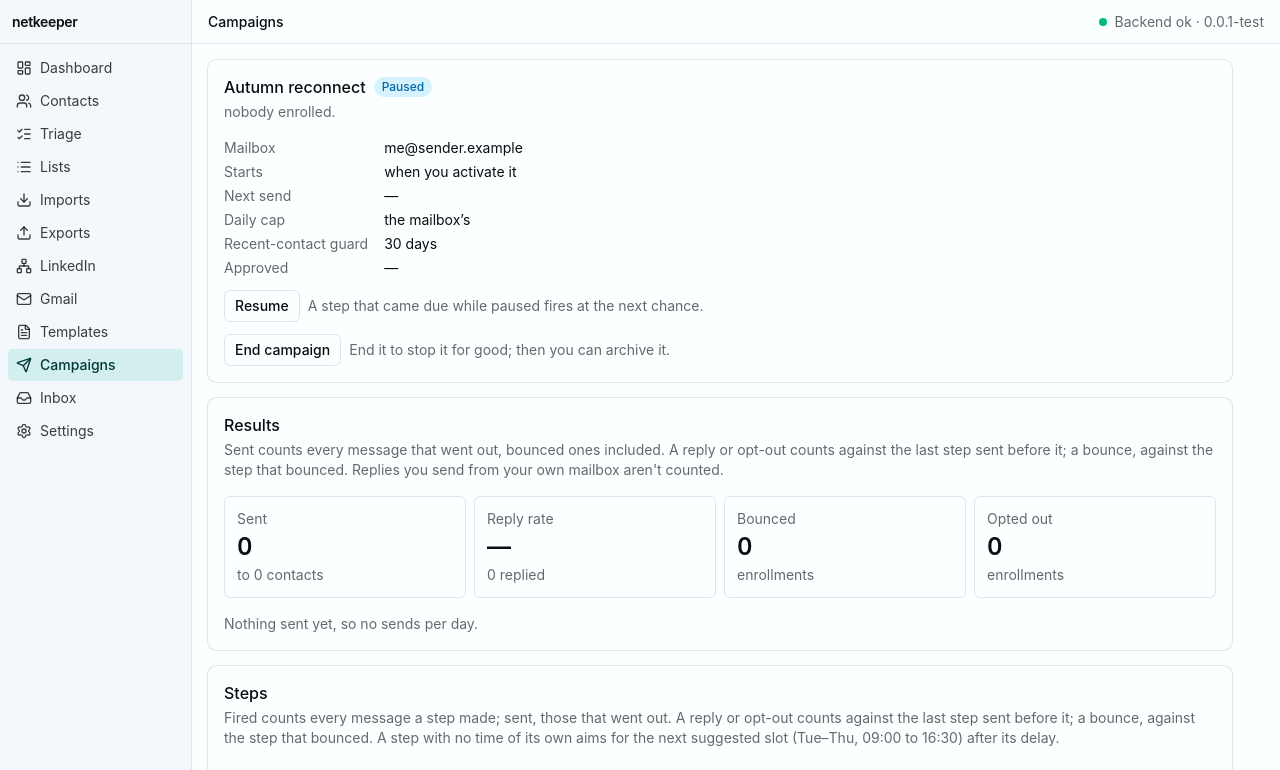
Test: campaign lifecycle › shows a refused end in the dialog
Expected: the navigation bar named "Primary" is shown, [0, 44, 191, 455]
Click the button "End campaign": (283, 350) [224, 334, 341, 366]
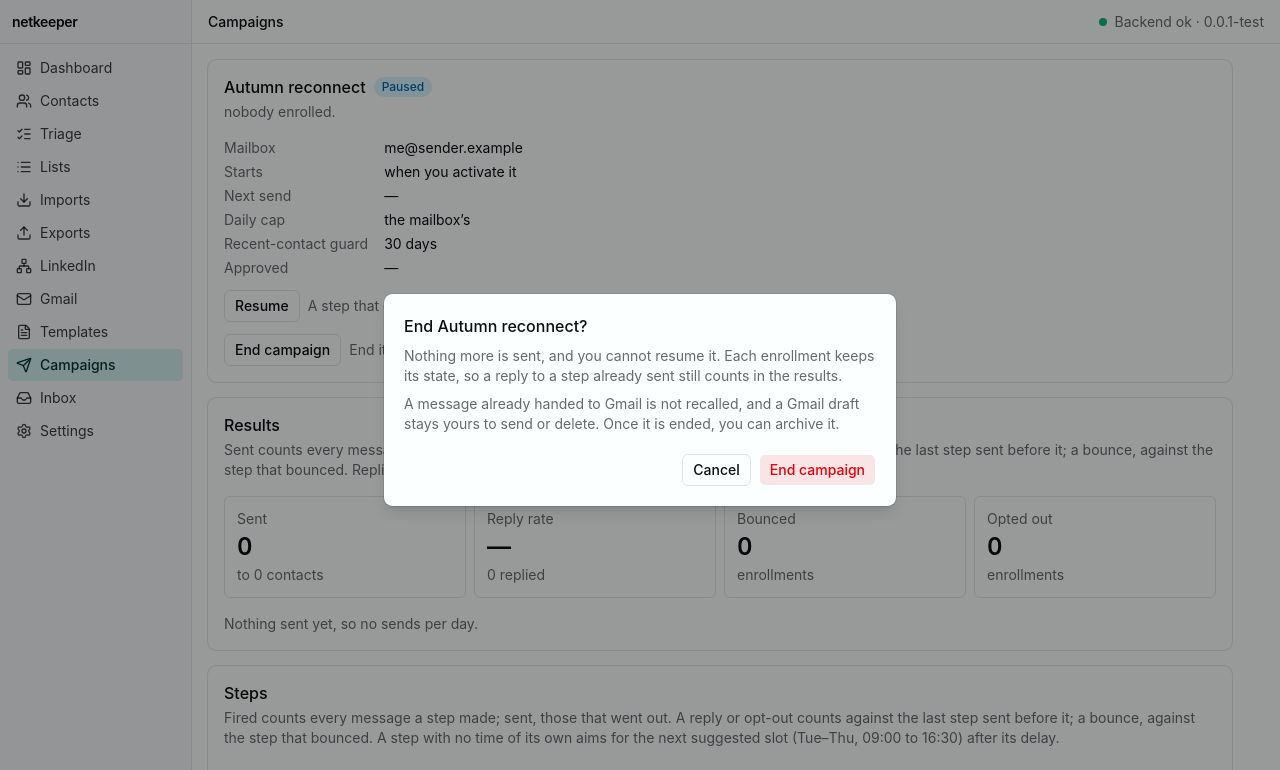
Click the button "End campaign": (817, 470) [759, 454, 876, 486]
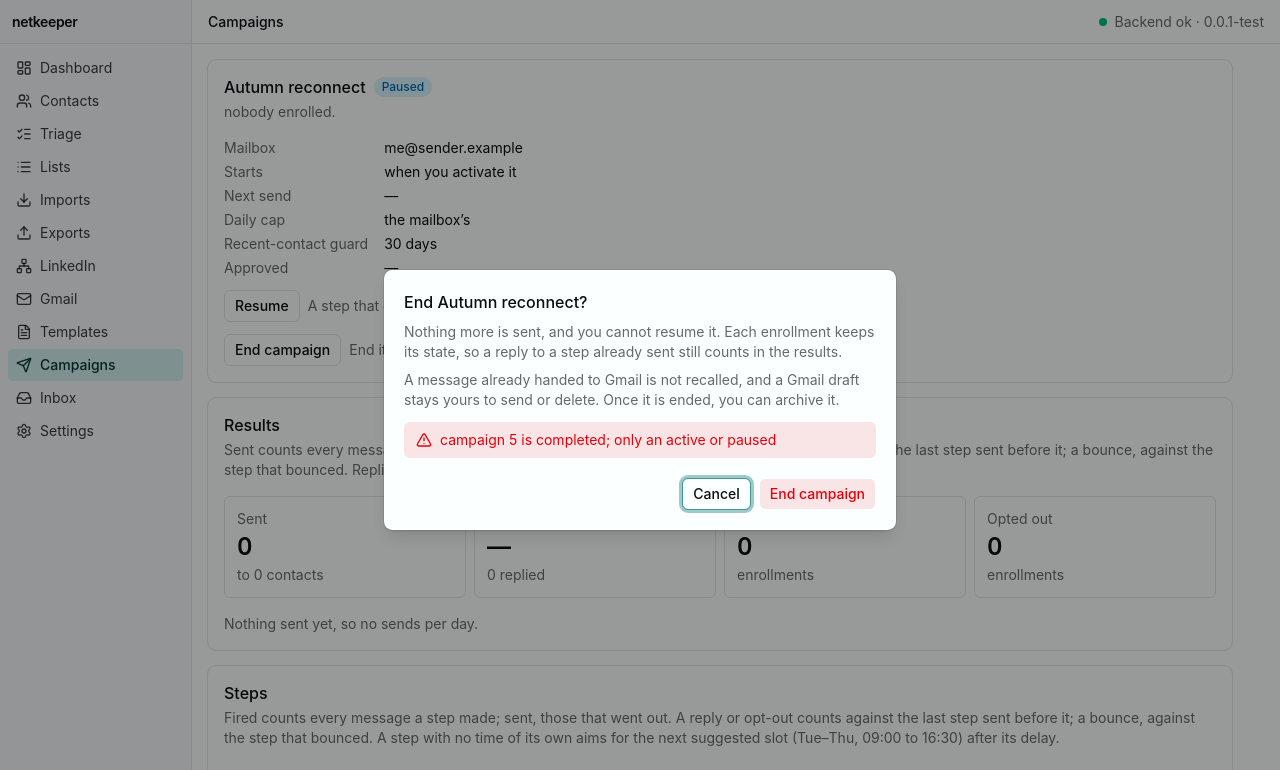
Expected: the message shows "only an active or paused", [440, 431, 776, 448]
